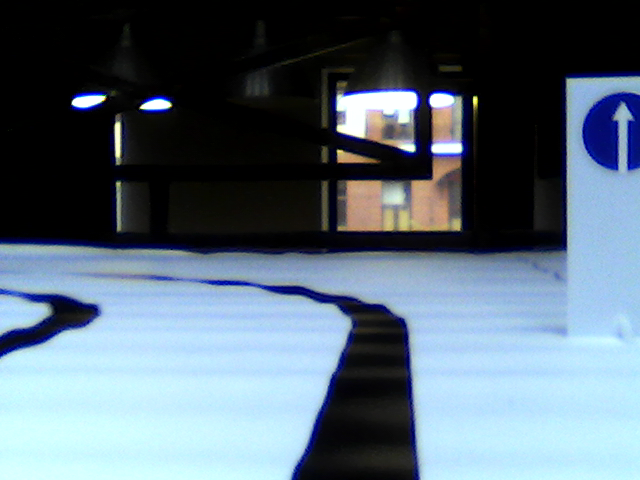forw: (582, 85, 639, 181)
